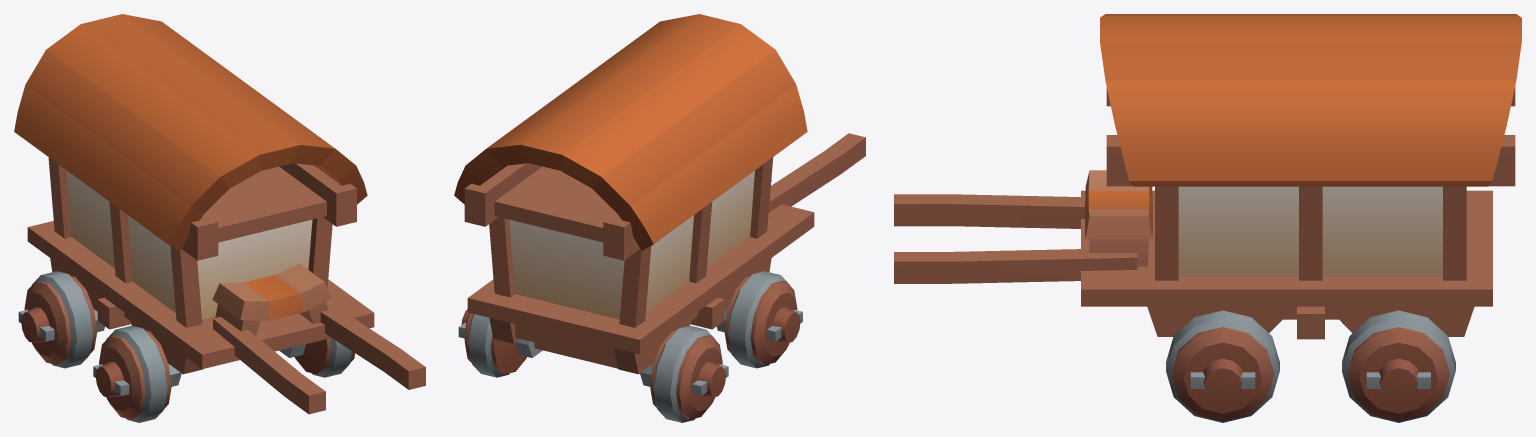
File: settler_cart.glb
3 renders of one model, left to right at view 1: azimuth 30°, elevation 25°; view 2: azimuth 150°, elevation 25°; view 3: azimuth 270°, elevation 25°, orthographic. The views are drawn at different scales.
Visible parts, largest first — view 1: cart, cart_axle_front, cart_axle_rear; view 2: cart, cart_axle_rear, cart_axle_front; view 3: cart, cart_axle_rear, cart_axle_front.
Part boxes in pixels (x1,y1,x2,y2): cart: [14, 14, 425, 414]; cart_axle_front: [93, 325, 355, 422]; cart_axle_rear: [18, 271, 104, 368]; cart: [454, 14, 865, 374]; cart_axle_rear: [458, 309, 728, 422]; cart_axle_front: [716, 271, 802, 368]; cart: [894, 14, 1521, 339]; cart_axle_rear: [1342, 310, 1455, 422]; cart_axle_front: [1166, 310, 1279, 422].
Bounding box in the file's own units: 0.7078 × 0.7704 × 1.31.
Materials: 1 (1 with a texture image).
